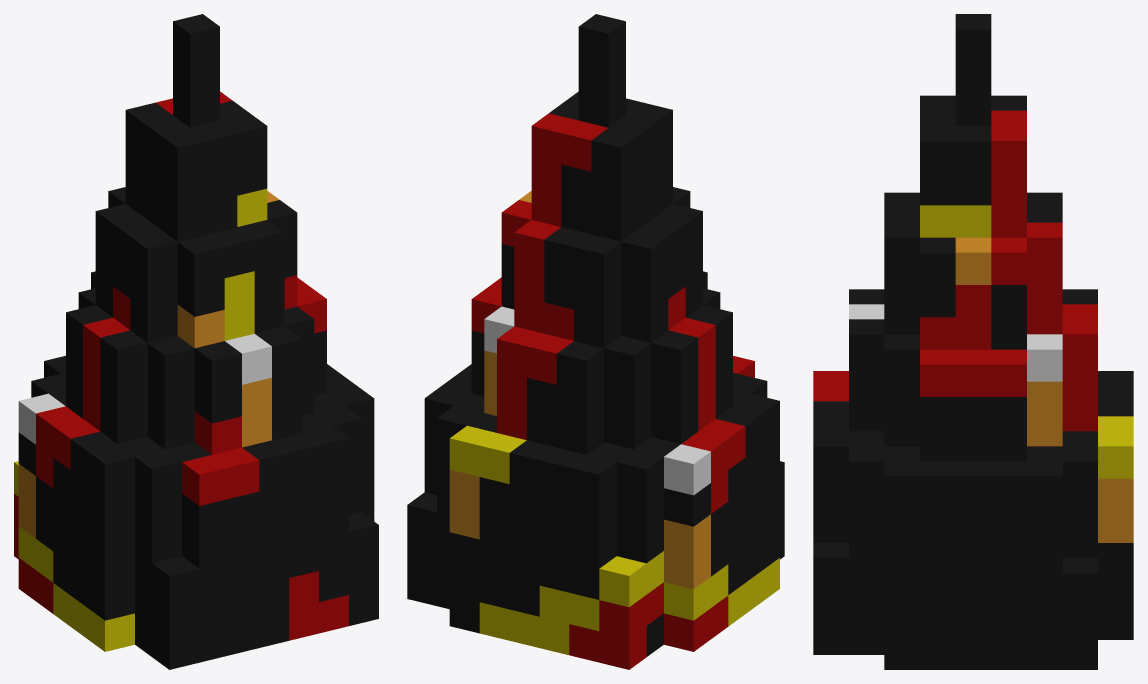
The model's file is lava_dol.obj.
The picture shows the model from 3 angles, left to right: view 1: azimuth 30°, elevation 25°; view 2: azimuth 150°, elevation 25°; view 3: azimuth 270°, elevation 25°; orthographic projection. The views are drawn at different scales.
Visible parts, largest first — view 1: lava_dol; view 2: lava_dol; view 3: lava_dol.
Part boxes in pixels (left/top/right/bottom): lava_dol: left=14, top=14, right=378, bottom=669; lava_dol: left=407, top=14, right=784, bottom=669; lava_dol: left=813, top=14, right=1133, bottom=669.
Bounding box in the file's own units: 9 × 18 × 9.
Materials: 1 (1 with a texture image).
